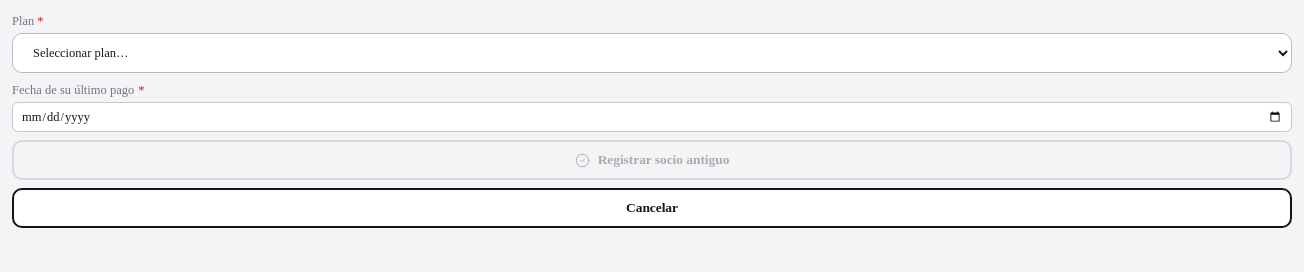
Scenario: MigrarSocioAntiguoForm › keeps the form editable when creating the membership fails, and never regularizes
Select "Mensual — $30,00 al mes" in the dropdown labelled "Plan *" at (652, 53), box x1=12 y1=33 x2=1292 y2=73
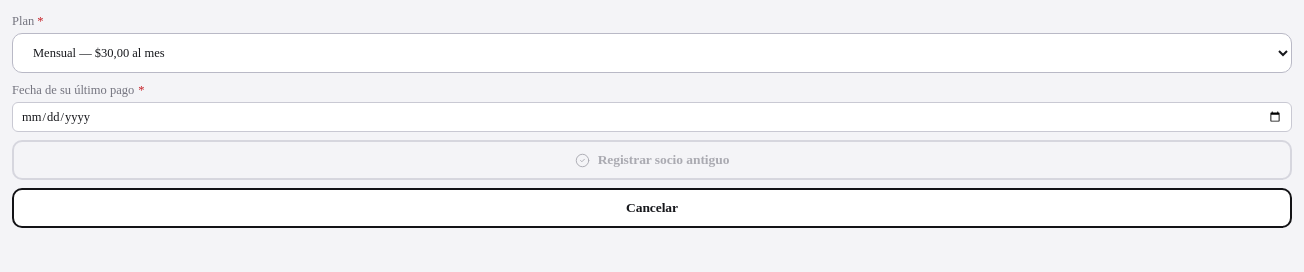
Type "2026-09-20" into the date field labelled "Fecha de su último pago*" at (652, 117), box x1=12 y1=102 x2=1292 y2=132
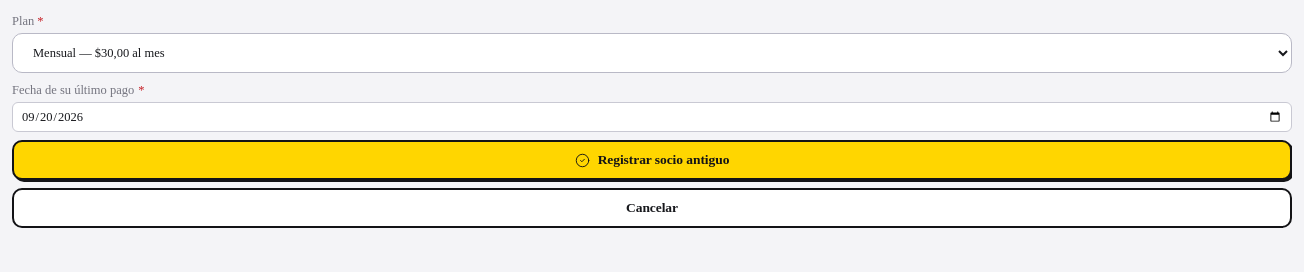
Click the button "Registrar socio antiguo" at (652, 160), box x1=12 y1=140 x2=1292 y2=180
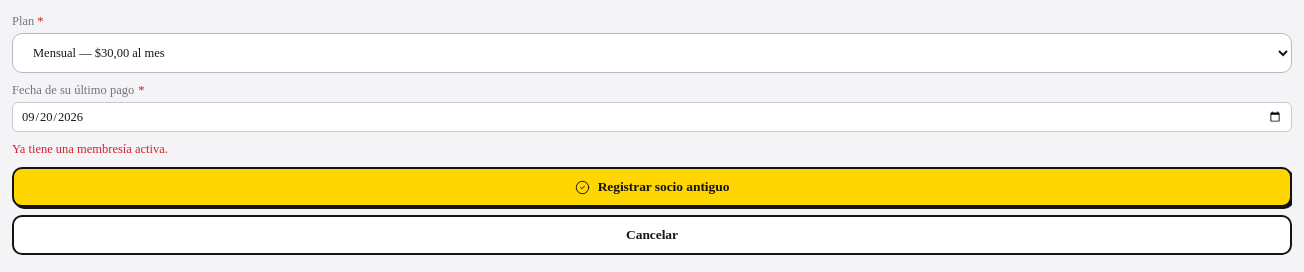
expect the date field labelled "Fecha de su último pago*" is enabled: met, box x1=12 y1=102 x2=1292 y2=132
expect the text "Ya tiene una membresía activa." is shown: met, box x1=12 y1=142 x2=168 y2=156
